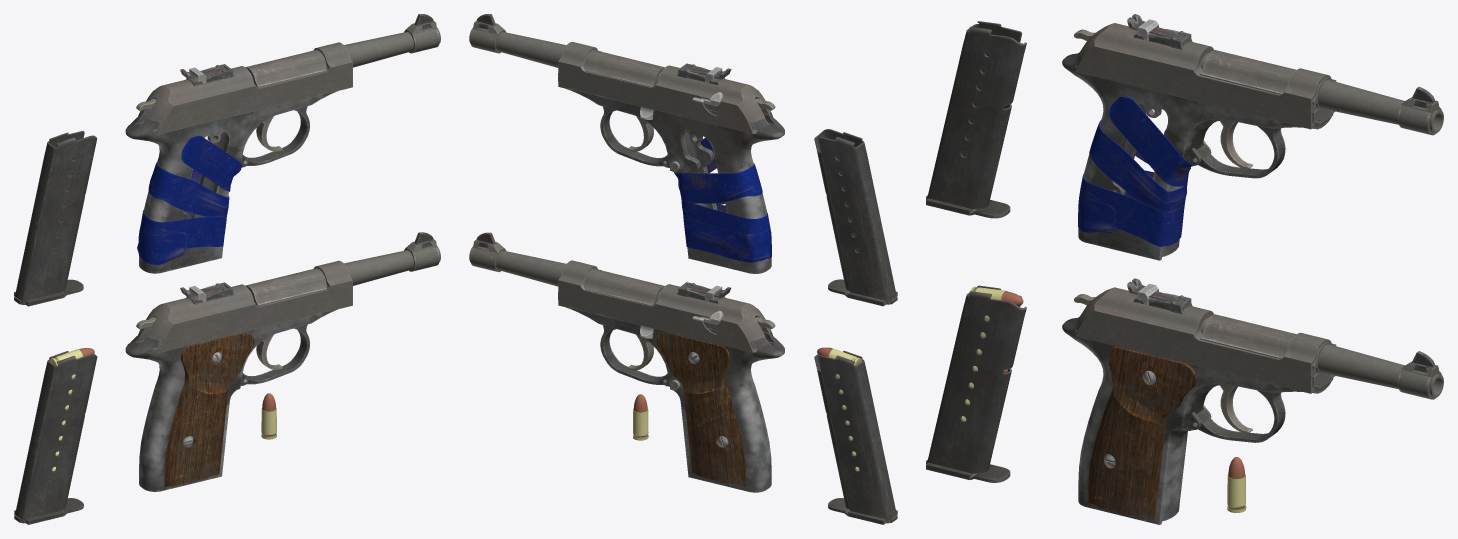
File: service_pistol.glb
3 views of the same model, side by side, from view 1: azimuth 30°, elevation 25°; view 2: azimuth 150°, elevation 25°; view 3: azimuth 330°, elevation 25° (orthographic). The views are drawn at different scales.
Visible parts, largest first — view 1: service_pistol_pistol_b, service_pistol_pistol_a, service_pistol_magazine_loaded, service_pistol_magazine_empty, service_pistol_slide_a, service_pistol_slide_b, service_pistol_bullet; view 2: service_pistol_pistol_b, service_pistol_pistol_a, service_pistol_magazine_loaded, service_pistol_magazine_empty, service_pistol_slide_a, service_pistol_slide_b, service_pistol_bullet; view 3: service_pistol_pistol_a, service_pistol_pistol_b, service_pistol_magazine_loaded, service_pistol_magazine_empty, service_pistol_slide_b, service_pistol_slide_a, service_pistol_bullet, service_pistol_trigger_b, service_pistol_trigger_a.
Boxes of the visible parts, x1,y1,x2,y2 form: service_pistol_pistol_b: (125,14,440,273); service_pistol_pistol_a: (125,232,440,491); service_pistol_magazine_loaded: (14,348,97,524); service_pistol_magazine_empty: (14,131,97,306); service_pistol_slide_a: (141,260,352,352); service_pistol_slide_b: (141,42,352,134); service_pistol_bullet: (261,393,276,439); service_pistol_pistol_b: (469,14,784,273); service_pistol_pistol_a: (469,232,784,492); service_pistol_magazine_loaded: (814,347,897,524); service_pistol_magazine_empty: (814,129,897,306); service_pistol_slide_a: (558,260,772,352); service_pistol_slide_b: (558,41,772,133); service_pistol_bullet: (633,394,648,440); service_pistol_pistol_a: (1062,314,1443,524); service_pistol_pistol_b: (1062,50,1443,260); service_pistol_magazine_loaded: (926,285,1026,482); service_pistol_magazine_empty: (926,21,1026,218); service_pistol_slide_b: (1075,14,1336,129); service_pistol_slide_a: (1075,278,1336,393); service_pistol_bullet: (1227,457,1246,512); service_pistol_trigger_b: (1220,120,1252,169); service_pistol_trigger_a: (1220,384,1252,433).
Size of the model in its own units: 0.3016 by 0.2807 by 0.0318.
1 material, 1 textured.
